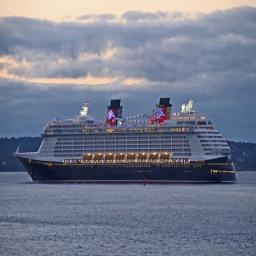cruises: (13, 96, 240, 186)
